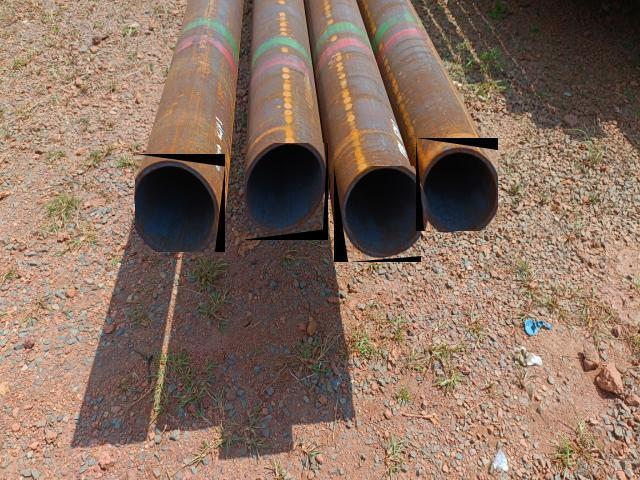pipe: (135, 154, 225, 252), (334, 166, 421, 262), (245, 143, 328, 240), (416, 138, 498, 231)
